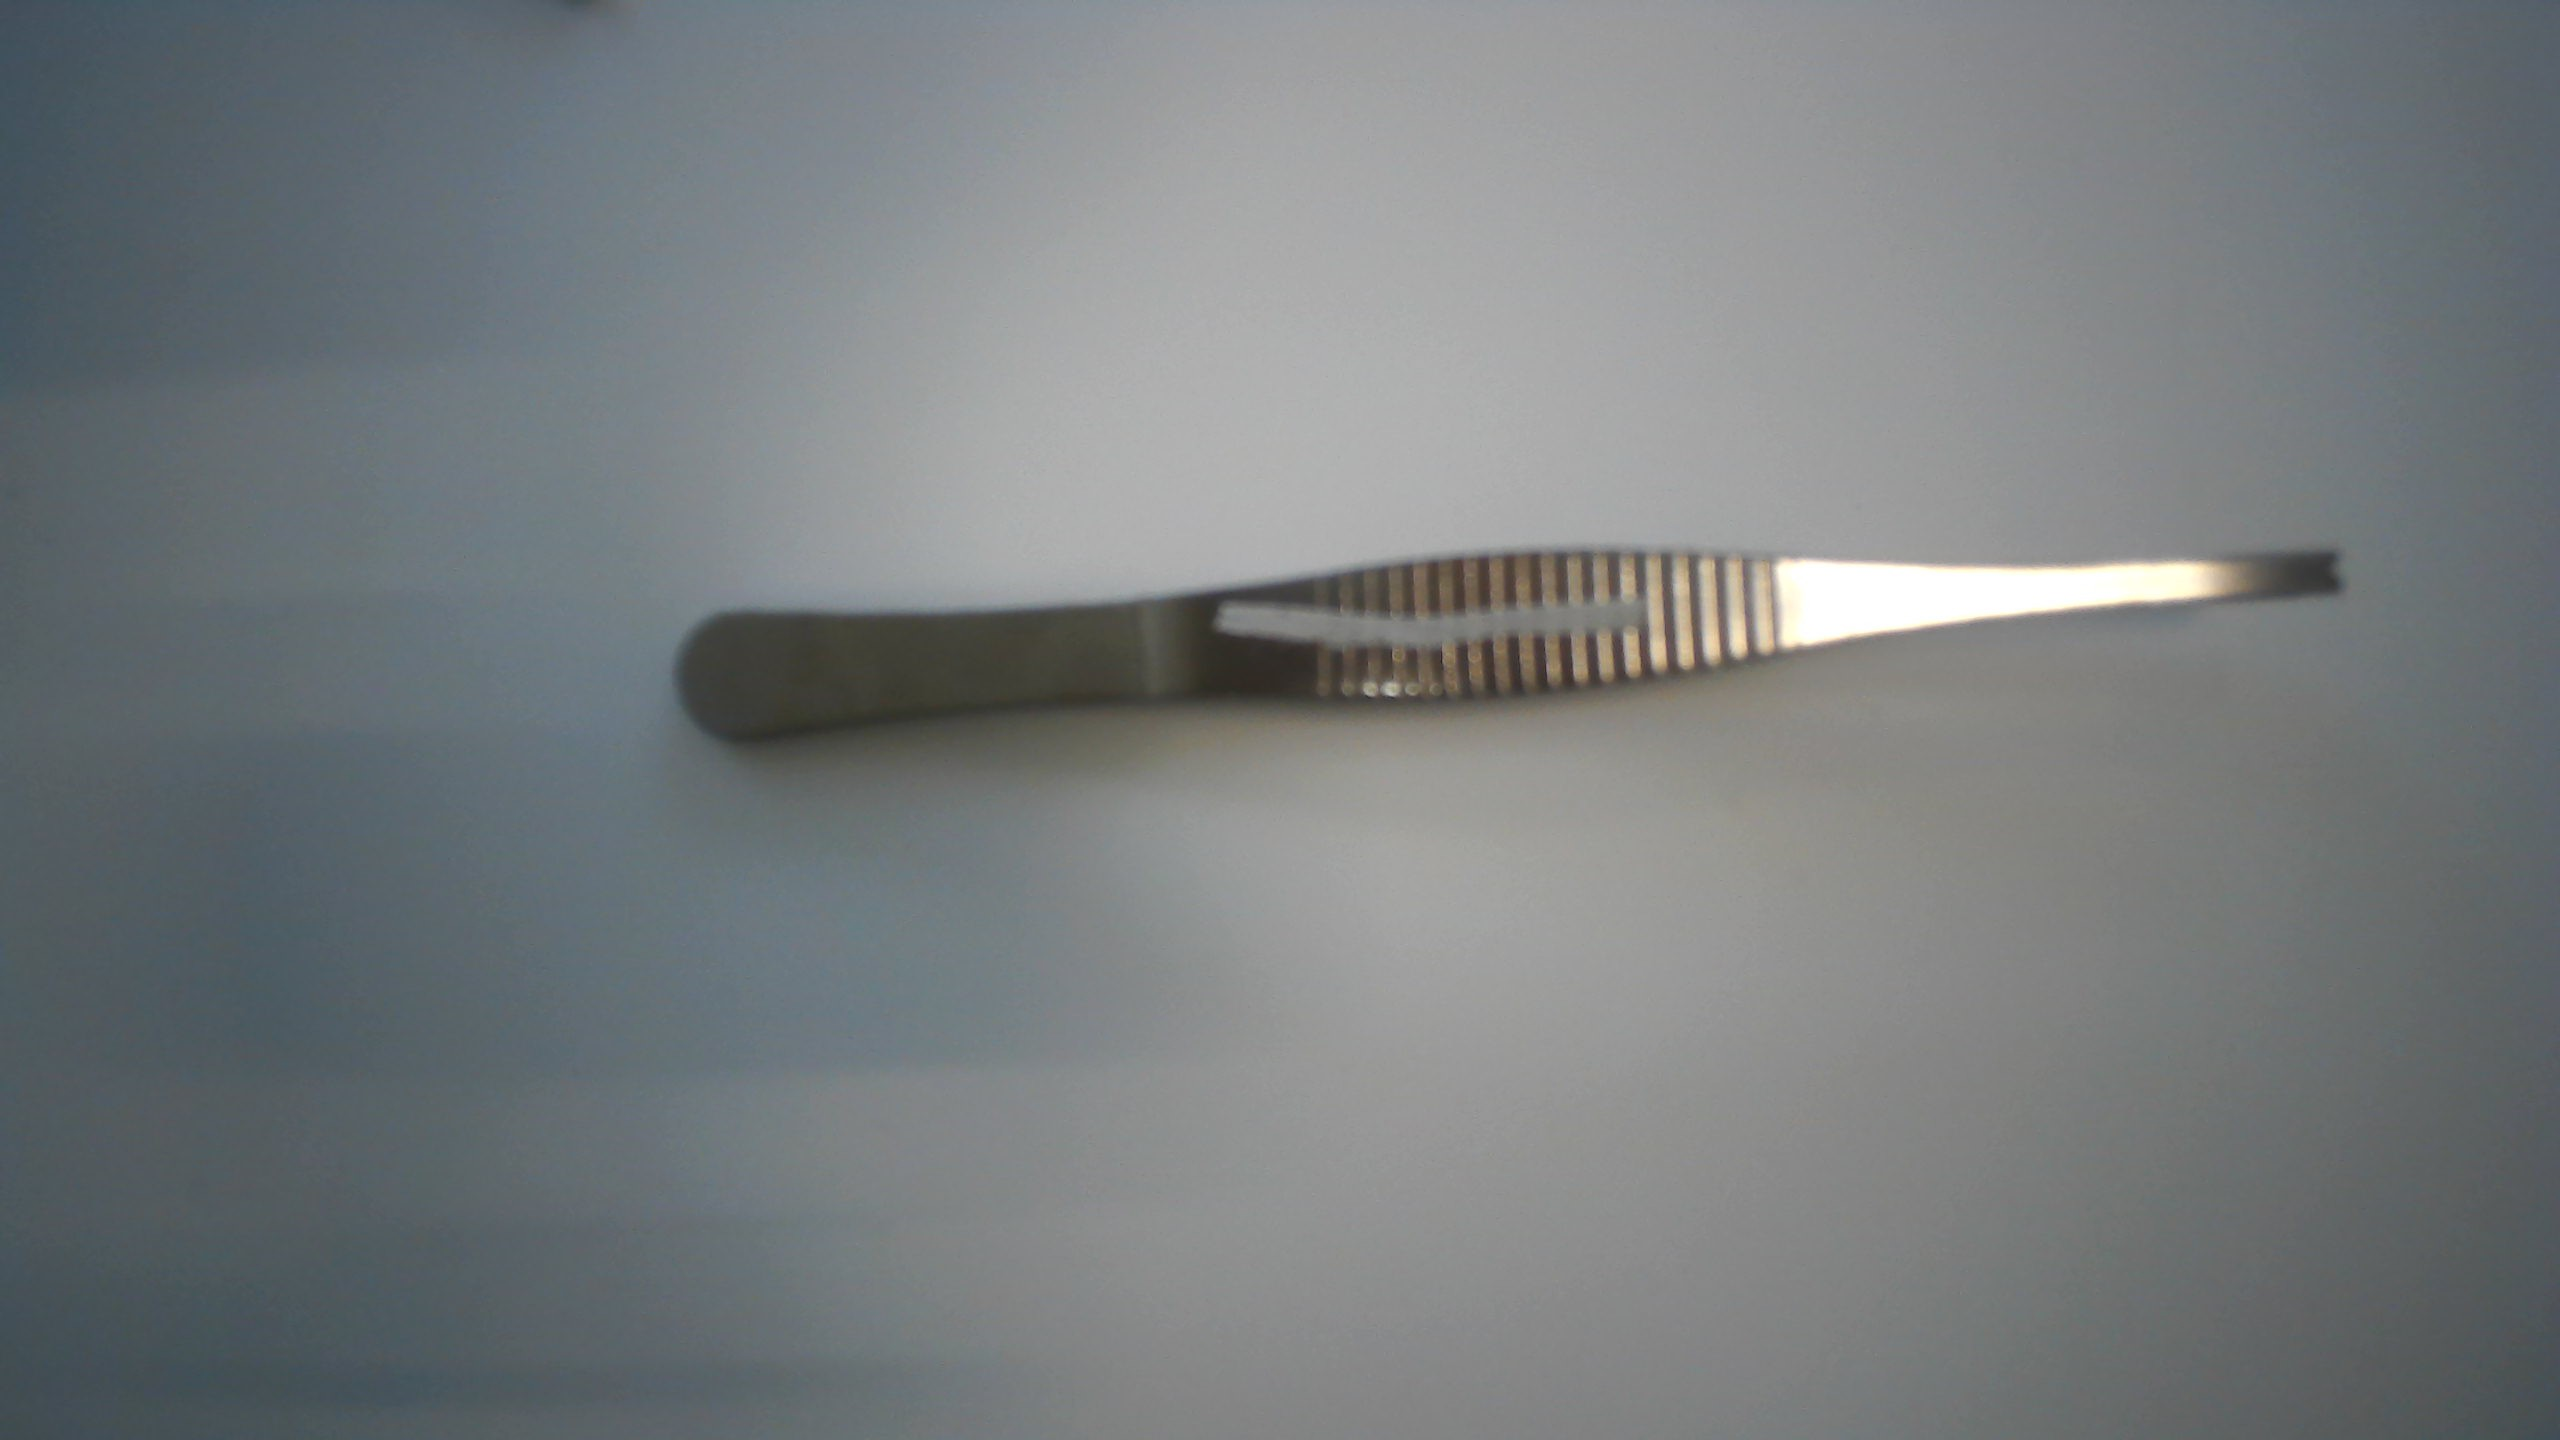Scratches: (1203, 587, 1655, 659)
